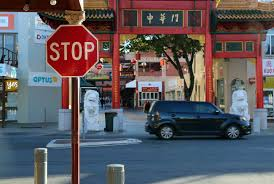stop: (46, 24, 98, 77)
